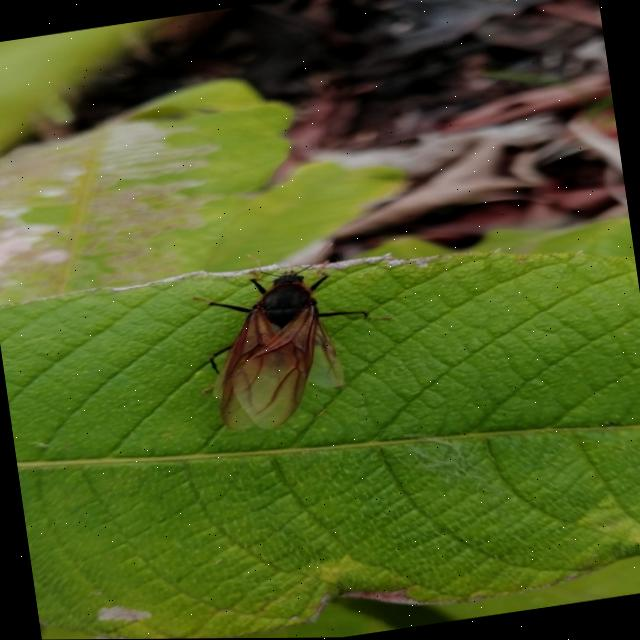Alive-Male-Alate: (184, 236, 406, 439)
